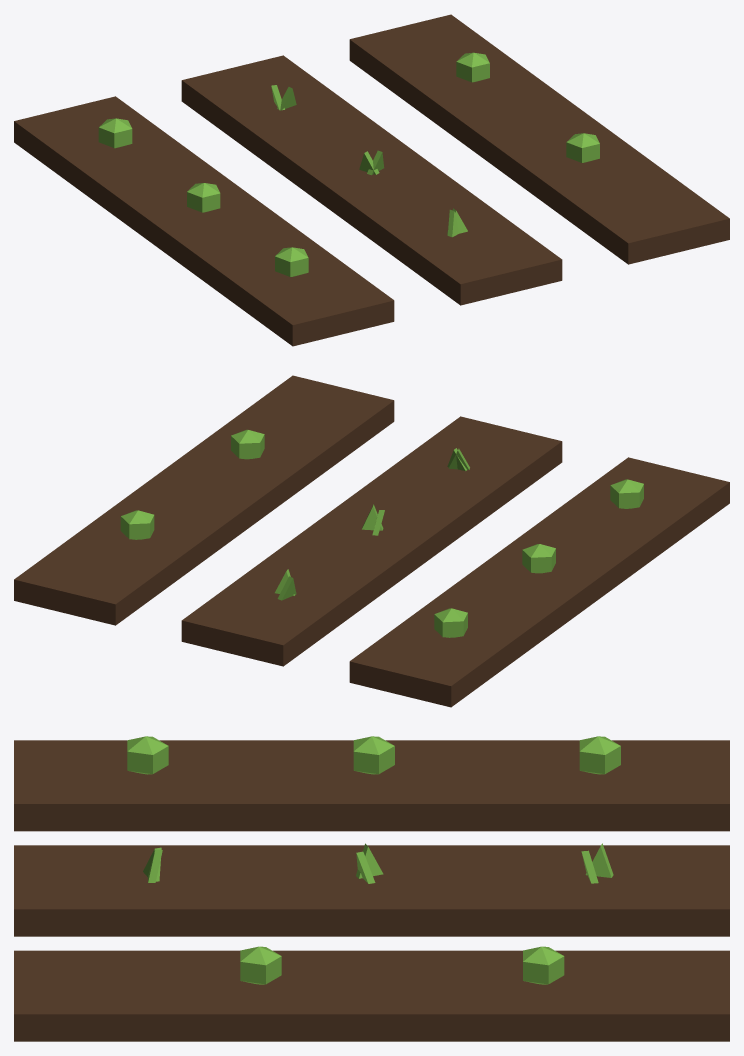
The model's file is crop_vegetables_1.glb.
The picture shows the model from 3 angles, top to bottom: view 1: azimuth 30°, elevation 25°; view 2: azimuth 150°, elevation 25°; view 3: azimuth 270°, elevation 25°; orthographic projection. The views are drawn at different scales.
Visible parts, largest first — view 1: crop_vegetables_1; view 2: crop_vegetables_1; view 3: crop_vegetables_1.
Boxes of the visible parts, x1,y1,x2,y2 form: crop_vegetables_1: (14,14,729,346); crop_vegetables_1: (14,375,729,707); crop_vegetables_1: (14,736,729,1041).
Bounding box in the file's own units: 1.72 × 0.185 × 1.9.
